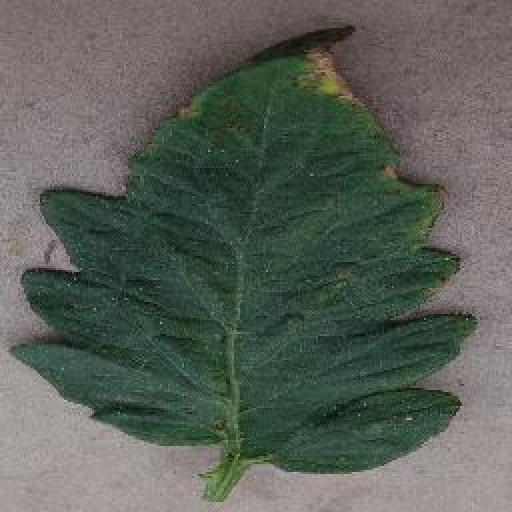Bacterial Spot: (8, 17, 480, 480)
